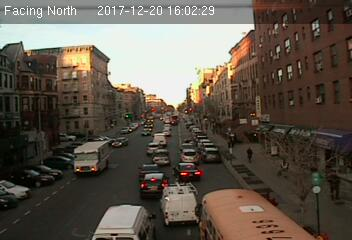car: (140, 171, 172, 198), (172, 162, 202, 181), (179, 149, 202, 163), (151, 149, 171, 165), (201, 147, 220, 162), (145, 142, 164, 156), (111, 137, 129, 149), (179, 142, 197, 151)
truck: (194, 190, 317, 240), (92, 203, 154, 240), (159, 184, 203, 226), (72, 141, 109, 175)
